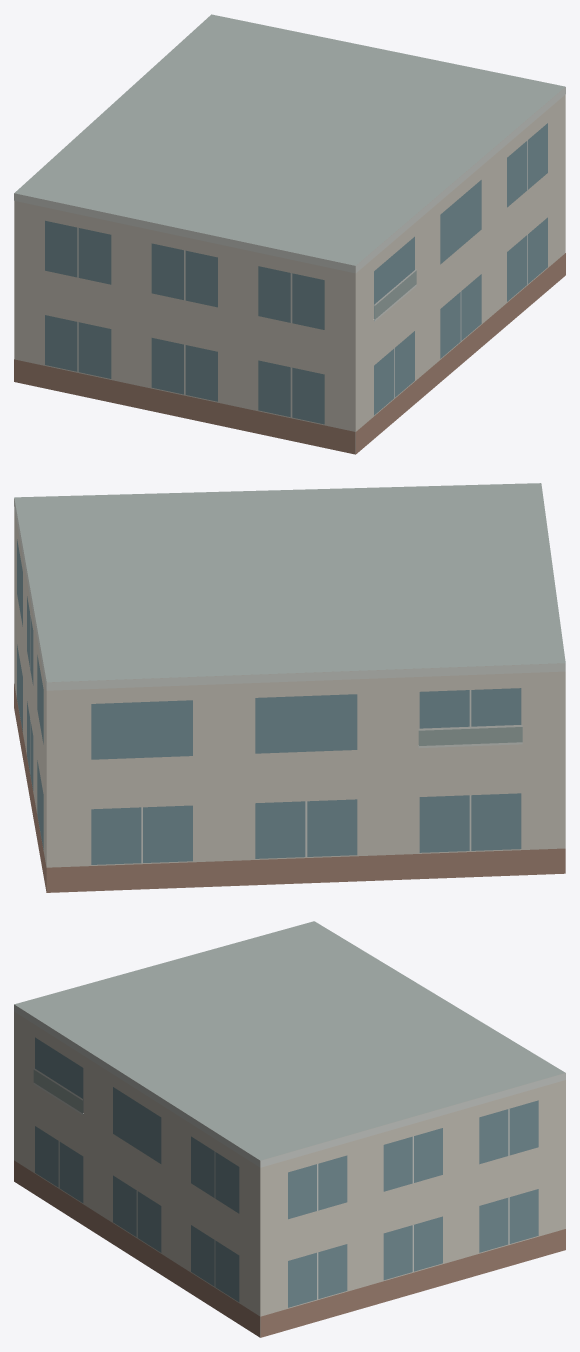
Rendered from survey-upis-32990177.glb.
3 views of the same model, one above another, from view 1: azimuth 30°, elevation 25°; view 2: azimuth 150°, elevation 25°; view 3: azimuth 270°, elevation 25° (orthographic). The views are drawn at different scales.
Parts seen in each view (by area): view 1: survey-upis-32990177.tmp; view 2: survey-upis-32990177.tmp; view 3: survey-upis-32990177.tmp.
Boxes of the visible parts, x1=… form: survey-upis-32990177.tmp: x1=14, y1=14, x2=565, y2=454; survey-upis-32990177.tmp: x1=14, y1=483, x2=565, y2=892; survey-upis-32990177.tmp: x1=14, y1=921, x2=565, y2=1337.
Bounding box in the file's own units: 17.71 × 6.1 × 17.23.
